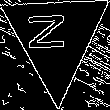N_E: (33, 17, 79, 59)
